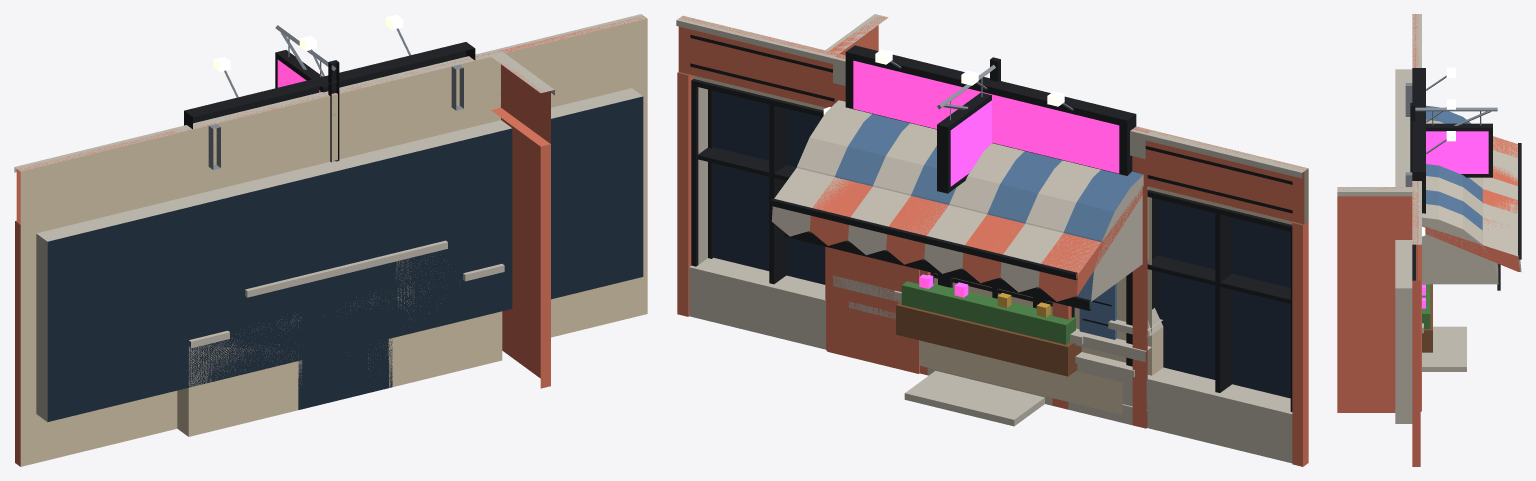
The model's file is kit_shop.glb.
3 renders of one model, left to right at view 1: azimuth 30°, elevation 25°; view 2: azimuth 150°, elevation 25°; view 3: azimuth 270°, elevation 25°, orthographic. The views are drawn at different scales.
Visible parts, largest first — view 1: Shop_Front_Wide, Shop_Corner, Shop_Front_Glass, Shop_Parapet, Shop_Front_Door, Shop_Sign_Board, Shop_Sign_Blade; view 2: Shop_Front_Wide, Shop_Awning_B, Shop_Awning_A, Shop_Sign_Board, Shop_Upper_Window, Shop_Corner, Shop_Front_Glass, Shop_Front_Door, Shop_Parapet, Shop_Sign_Blade; view 3: Shop_Corner, Shop_Front_Wide, Shop_Awning_B, Shop_Awning_A, Shop_Sign_Blade, Shop_Sign_Board, Shop_Upper_Window, Shop_Front_Door.
Part boxes in pixels (<box>): Shop_Front_Wide: <box>14,14,647,466</box>; Shop_Corner: <box>171,49,554,388</box>; Shop_Front_Glass: <box>202,141,478,381</box>; Shop_Parapet: <box>177,240,504,436</box>; Shop_Front_Door: <box>173,52,485,409</box>; Shop_Sign_Board: <box>184,14,475,169</box>; Shop_Sign_Blade: <box>275,25,339,162</box>; Shop_Front_Wide: <box>676,15,1308,466</box>; Shop_Awning_B: <box>784,100,1148,310</box>; Shop_Awning_A: <box>771,168,1147,301</box>; Shop_Sign_Board: <box>845,45,1136,175</box>; Shop_Upper_Window: <box>833,61,1151,427</box>; Shop_Corner: <box>818,14,1151,428</box>; Shop_Front_Glass: <box>848,301,1149,426</box>; Shop_Front_Door: <box>835,54,1151,426</box>; Shop_Parapet: <box>833,273,1163,425</box>; Shop_Sign_Blade: <box>937,57,1000,193</box>; Shop_Corner: <box>1337,128,1425,412</box>; Shop_Front_Wide: <box>1395,14,1466,466</box>; Shop_Awning_B: <box>1422,105,1500,290</box>; Shop_Awning_A: <box>1422,136,1521,272</box>; Shop_Sign_Blade: <box>1410,103,1497,177</box>; Shop_Sign_Board: <box>1405,67,1455,213</box>; Shop_Upper_Window: <box>1422,284,1432,352</box>; Shop_Front_Door: <box>1395,142,1466,371</box>.
Bounding box in the file's own units: 8 × 4.05 × 2.7.
